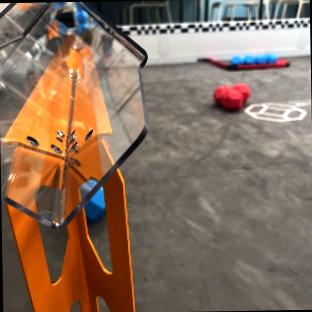V5_BLUE: (85, 186, 104, 219)
V5_RED: (213, 82, 250, 110)
